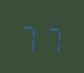seven: (41, 19, 62, 54), (19, 18, 40, 52)
